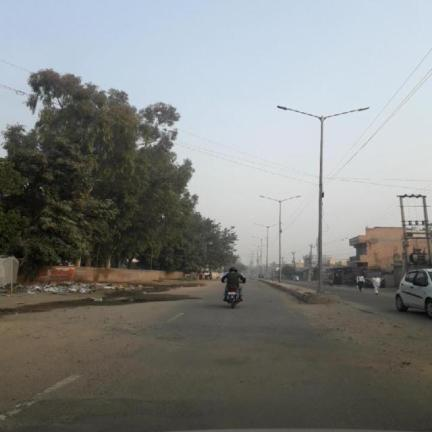Road: (0, 281, 431, 431)
